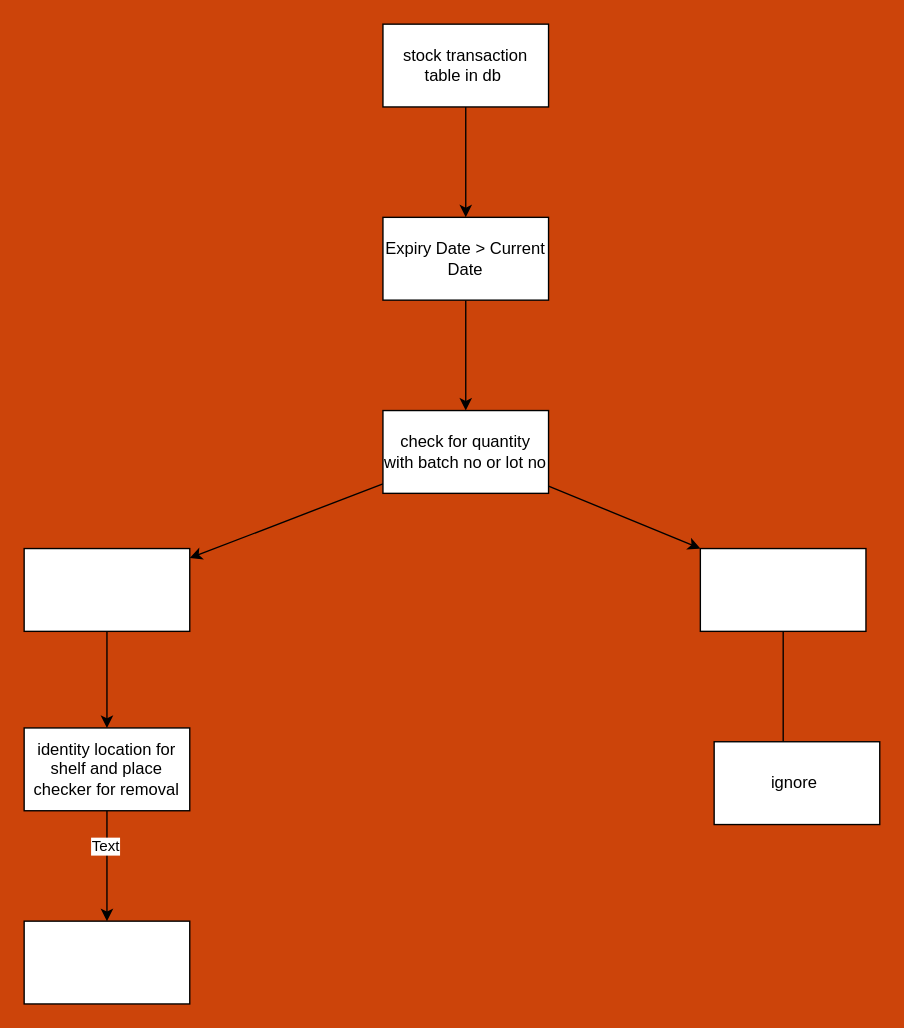
Some shapes in this 904 by 1028 pixel diagram are drawn without their labels. Each missing label, with the box of its shape:
Notify Store Manager Via Email: (23, 920, 190, 1004)
qty = 0: (699, 547, 866, 631)
qty > 0: (23, 547, 190, 631)
